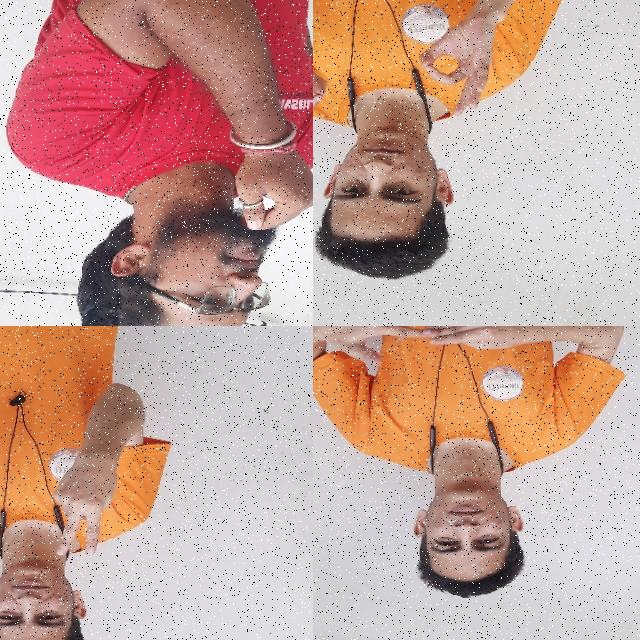Chin Flick: (85, 125, 313, 326)
Five Fathers: (313, 326, 543, 376)
Okay: (415, 0, 508, 121), (313, 34, 335, 156)
Reversed Victory: (43, 442, 126, 560)
